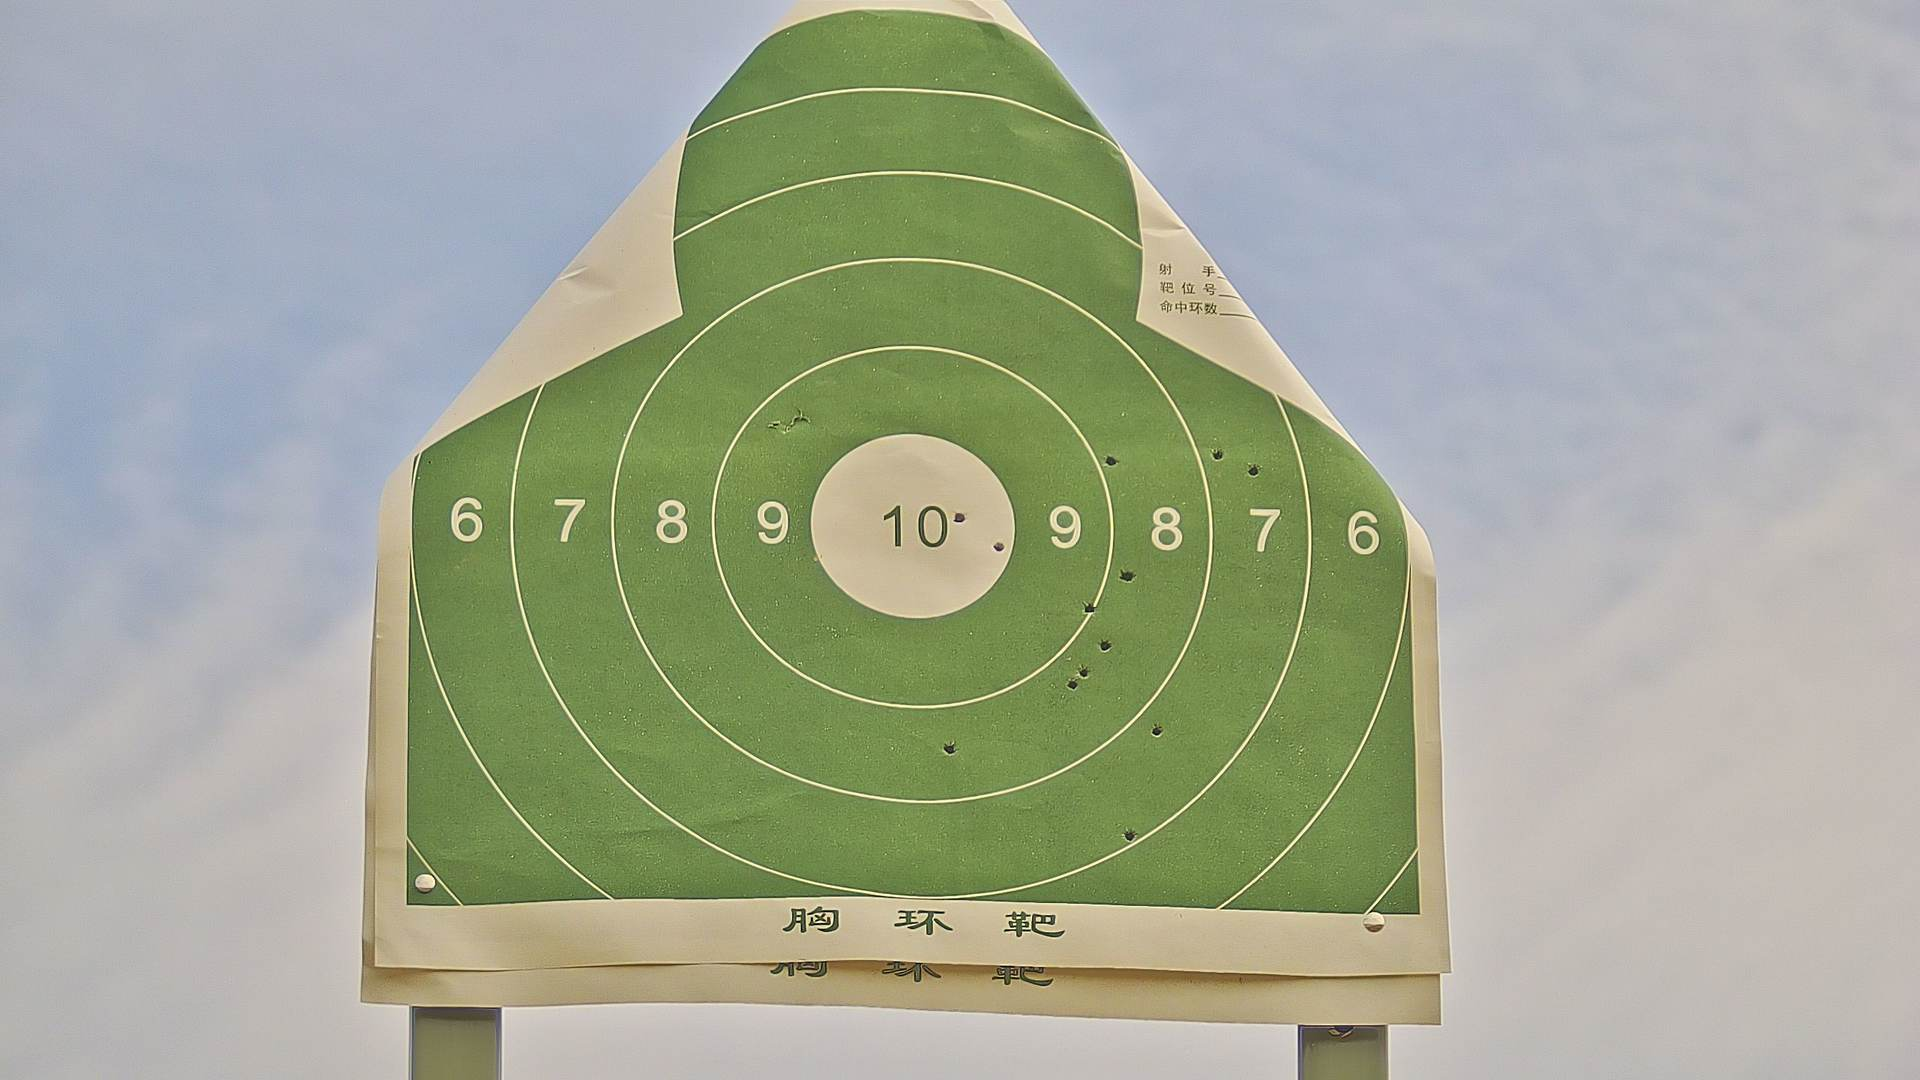hole: (1116, 564, 1139, 583), (1064, 675, 1083, 695), (1077, 665, 1095, 684), (1080, 597, 1098, 615), (1096, 636, 1116, 651), (989, 538, 1010, 553), (1208, 444, 1226, 460), (1121, 825, 1141, 840), (1102, 451, 1120, 467), (1149, 720, 1164, 737), (1247, 456, 1259, 477), (942, 738, 957, 754), (953, 509, 964, 527)
kernel: (905, 522, 911, 531)
target: (409, 7, 1423, 915)
ten: (808, 433, 1015, 622)
